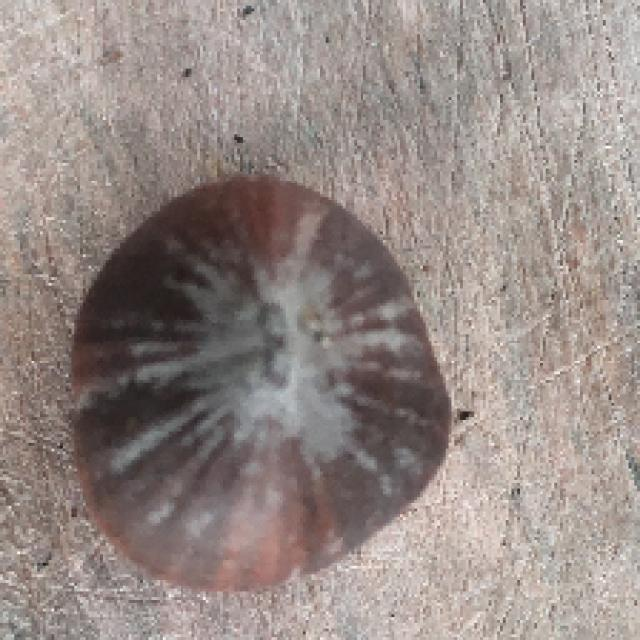damagedHazelnut: (60, 169, 464, 590)
